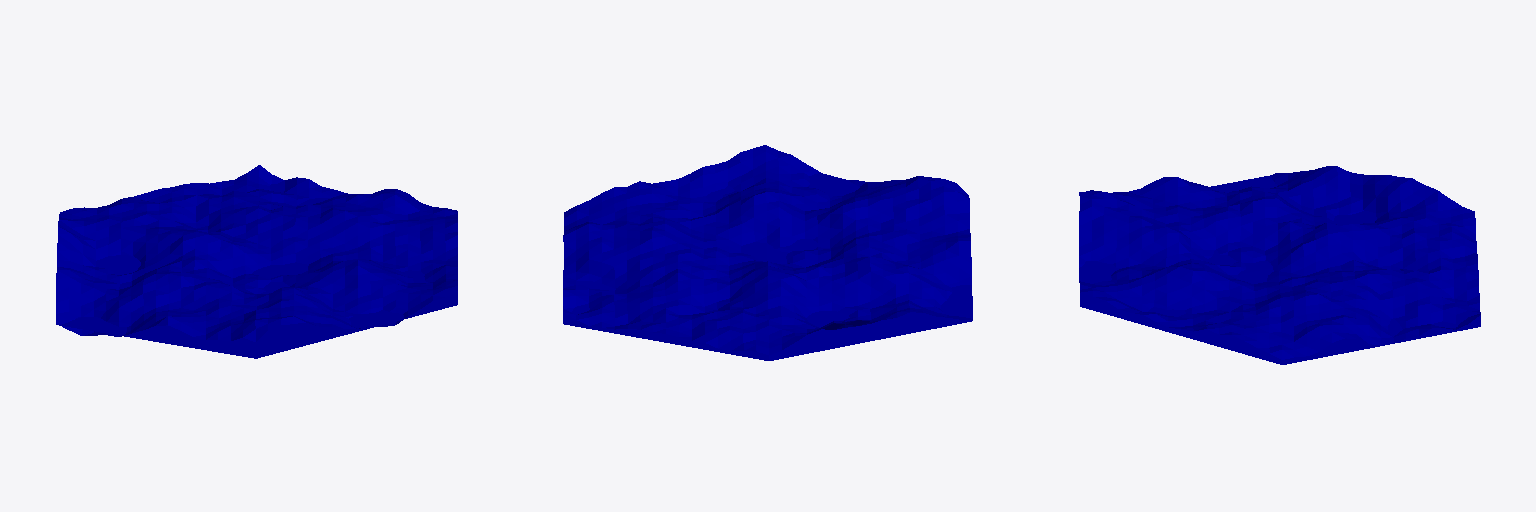
Rendered from water4.obj.
3 views of the same model, side by side, from view 1: azimuth 30°, elevation 25°; view 2: azimuth 150°, elevation 25°; view 3: azimuth 270°, elevation 25° (orthographic).
Visible parts, largest first — view 1: Circle.000, Circle.002; view 2: Circle.000, Circle.002; view 3: Circle.000, Circle.002.
Part boxes in pixels (bbox=[...]): Circle.000: bbox=[56, 165, 457, 341]; Circle.002: bbox=[56, 184, 457, 358]; Circle.000: bbox=[563, 145, 972, 354]; Circle.002: bbox=[563, 173, 972, 360]; Circle.000: bbox=[1079, 166, 1480, 359]; Circle.002: bbox=[1079, 175, 1480, 364].
Size of the model in its own units: 1.98 by 0.2139 by 1.7.